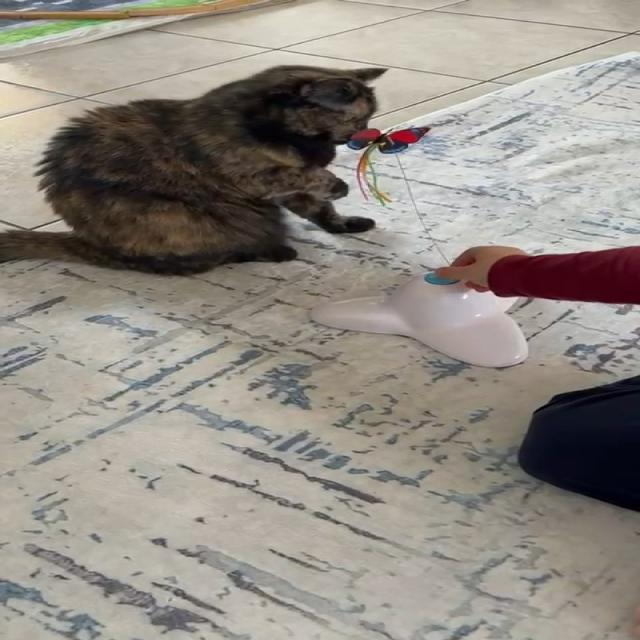authorized: (0, 64, 388, 276)
